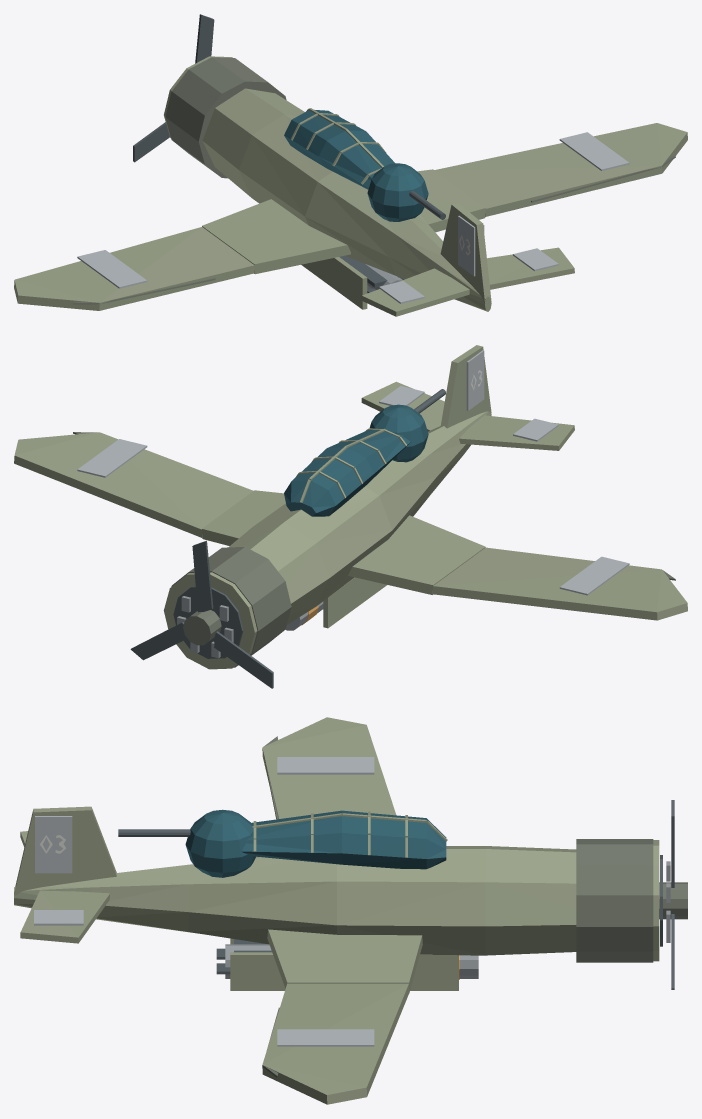
The model's file is ENE_Ww2TorpedoBomber_03.fbx.
The picture shows the model from 3 angles, top to bottom: view 1: azimuth 30°, elevation 25°; view 2: azimuth 150°, elevation 25°; view 3: azimuth 270°, elevation 25°; orthographic projection. The views are drawn at different scales.
Parts seen in each view (by area): view 1: ENE_Ww2TorpedoBomber_03_Visual, Propeller_Visual; view 2: ENE_Ww2TorpedoBomber_03_Visual, Propeller_Visual; view 3: ENE_Ww2TorpedoBomber_03_Visual, Propeller_Visual.
Part boxes in pixels (<box>): ENE_Ww2TorpedoBomber_03_Visual: <box>14,56,687,316</box>; Propeller_Visual: <box>133,14,214,162</box>; ENE_Ww2TorpedoBomber_03_Visual: <box>14,345,687,669</box>; Propeller_Visual: <box>130,540,273,688</box>; ENE_Ww2TorpedoBomber_03_Visual: <box>14,717,670,1104</box>; Propeller_Visual: <box>659,800,687,989</box>.
Bounding box in the file's own units: 360 × 78.3 × 271.
